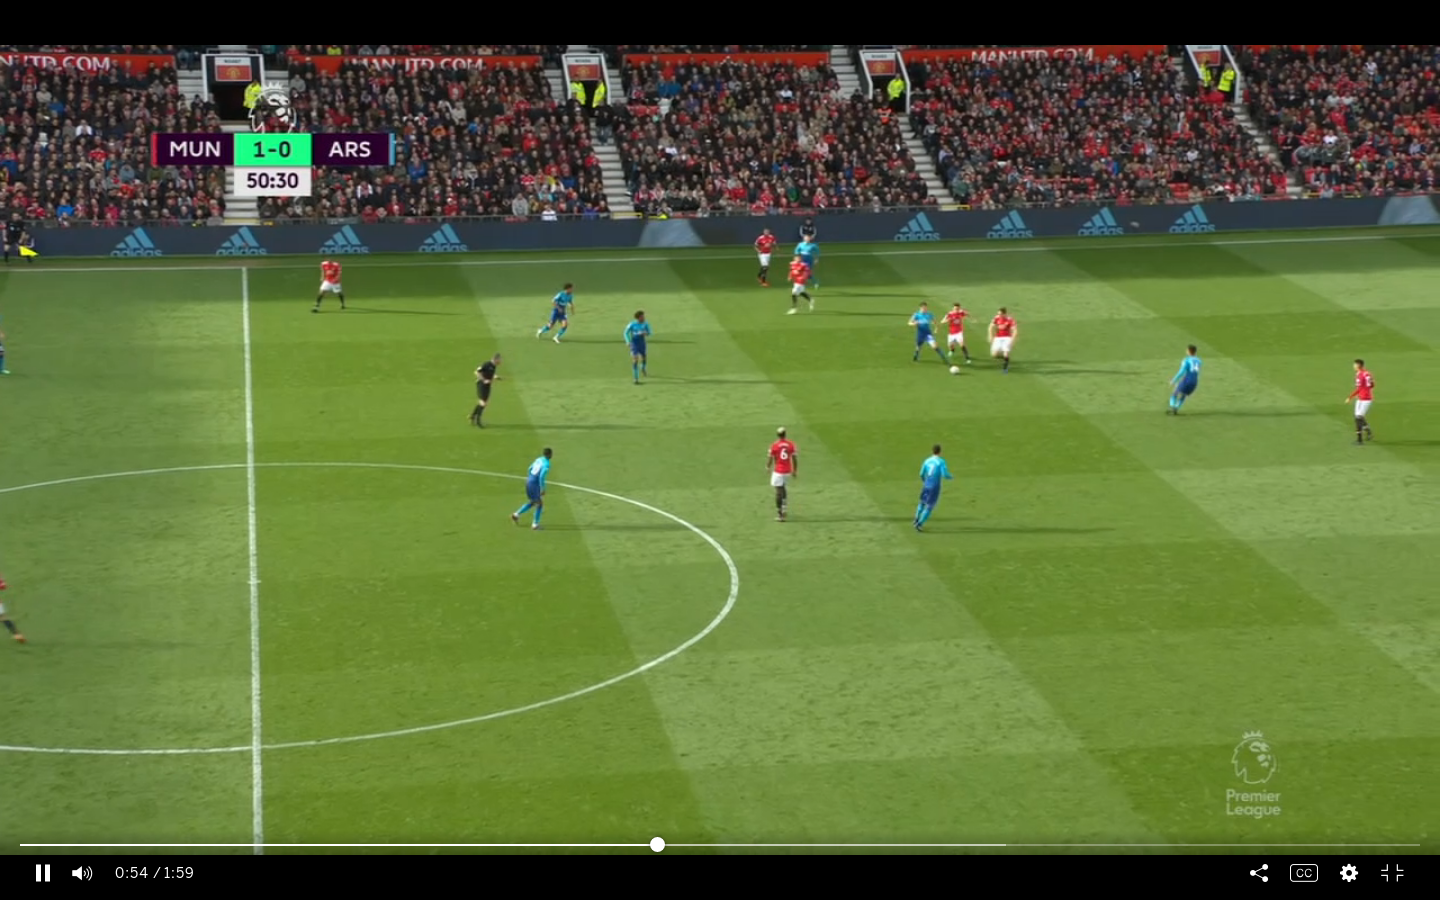referee: (465, 349, 507, 434)
soccer player: (508, 443, 562, 539), (758, 425, 805, 528), (913, 439, 955, 539), (1342, 354, 1384, 449), (535, 282, 579, 351), (1165, 340, 1204, 419), (622, 308, 656, 382), (908, 305, 941, 366), (987, 306, 1018, 369), (315, 254, 347, 312), (747, 232, 784, 282), (942, 300, 968, 362), (788, 257, 815, 316)
soccerball: (947, 360, 962, 382)
